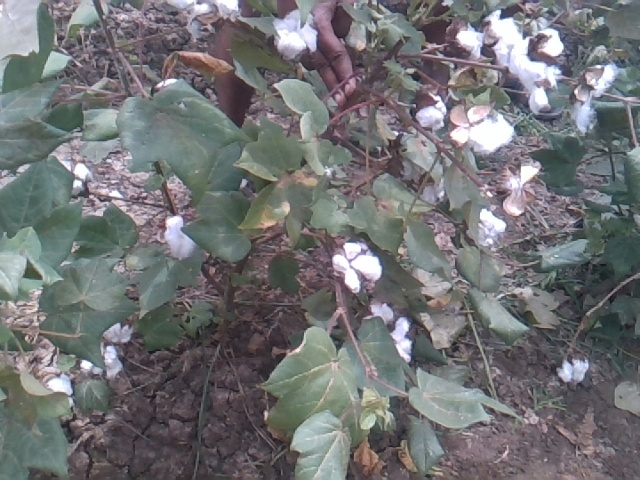cotton: (510, 30, 563, 113), (569, 60, 614, 133), (327, 239, 381, 292), (268, 15, 321, 61), (485, 13, 528, 66), (159, 213, 201, 262), (468, 113, 515, 155), (414, 92, 455, 132), (390, 317, 421, 366), (474, 207, 511, 248), (455, 23, 492, 58), (83, 347, 123, 378), (531, 31, 569, 62), (558, 354, 590, 388), (365, 301, 398, 328), (102, 320, 135, 346), (72, 166, 89, 198)
